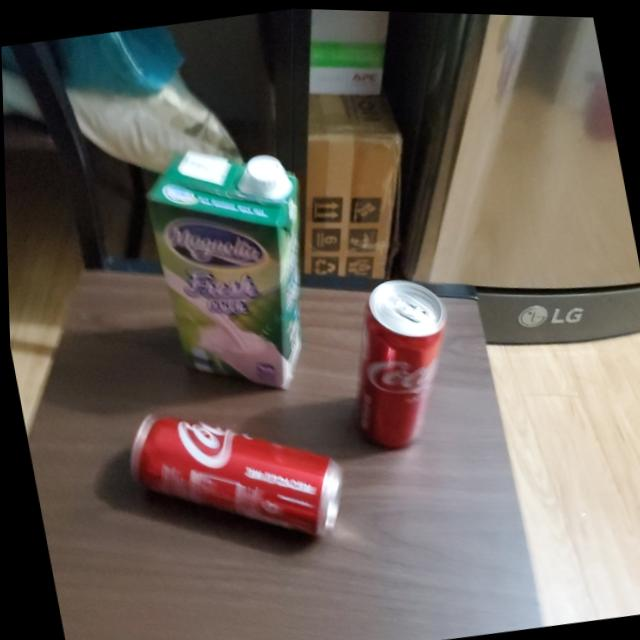coke: (114, 386, 350, 558), (331, 269, 469, 454)
milk: (134, 130, 340, 406)
